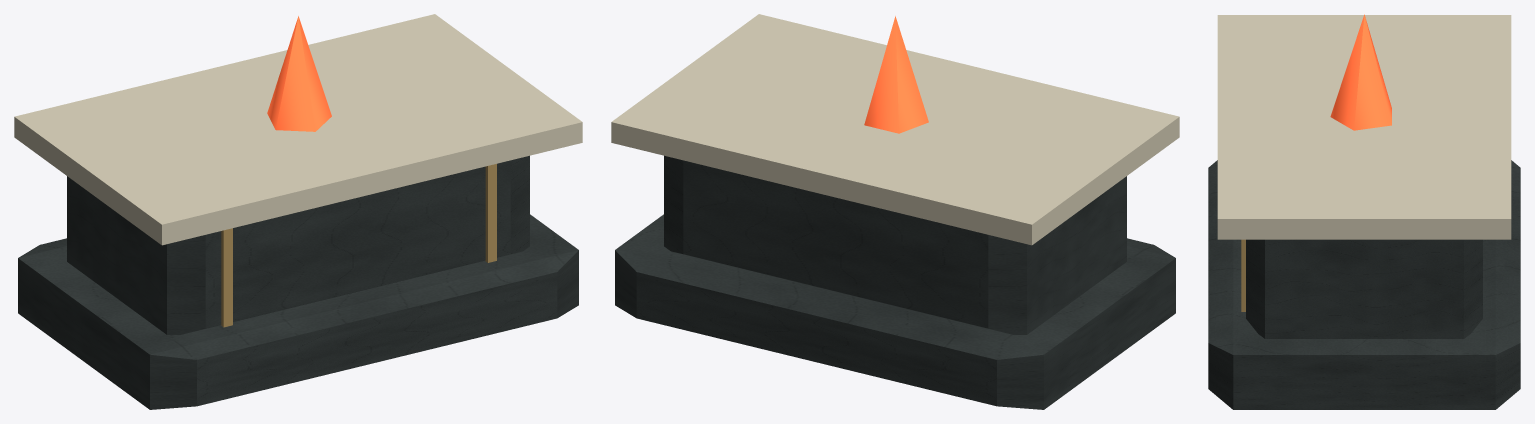
File: altar.glb
3 renders of one model, left to right at view 1: azimuth 30°, elevation 25°; view 2: azimuth 150°, elevation 25°; view 3: azimuth 270°, elevation 25°, orthographic.
Parts seen in each view (by area): view 1: altar-top, altar-base, altar-body, altar-ember, altar-gold-inlay (×2); view 2: altar-top, altar-base, altar-body, altar-ember; view 3: altar-top, altar-base, altar-body, altar-ember, altar-gold-inlay.
Boxes of the visible parts, box(x1,y1,x2,y2) form: altar-top: box(14, 14, 582, 245); altar-base: box(18, 214, 578, 409); altar-body: box(67, 155, 529, 334); altar-ember: box(267, 16, 331, 131); altar-gold-inlay (×2): box(221, 164, 496, 327); altar-top: box(611, 14, 1179, 245); altar-base: box(615, 214, 1175, 409); altar-body: box(664, 155, 1126, 334); altar-ember: box(864, 16, 928, 133); altar-top: box(1217, 15, 1511, 239); altar-base: box(1208, 160, 1520, 409); altar-body: box(1246, 239, 1482, 338); altar-ember: box(1330, 14, 1391, 130); altar-gold-inlay: box(1241, 239, 1245, 311).
Size of the model in its own units: 2.6 by 1.7 by 1.65.
Materials: 4 (1 with a texture image).
